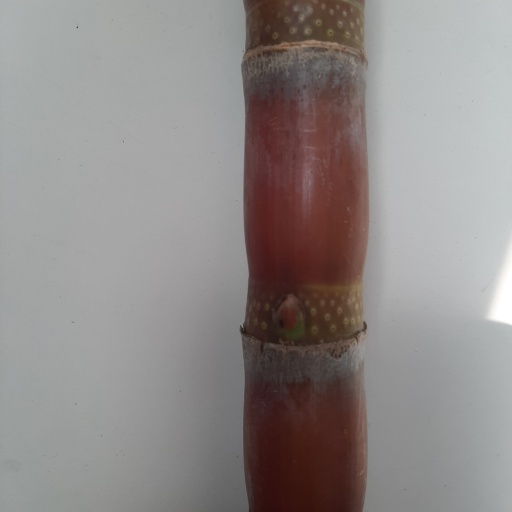Bud: (271, 291, 309, 340)
